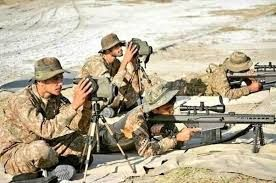gun: (137, 101, 271, 133), (222, 60, 275, 85)
uniform: (1, 59, 73, 171), (97, 87, 190, 152), (150, 51, 256, 99), (78, 34, 132, 111)
